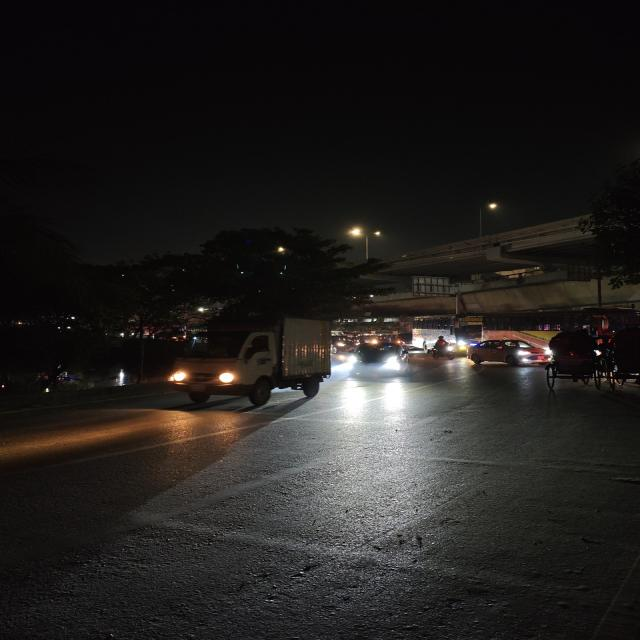bus: (415, 315, 492, 341)
car: (463, 336, 551, 370), (345, 342, 414, 380)
motorcycle: (427, 335, 454, 358)
rickshaw: (542, 329, 606, 389)
truck: (165, 314, 336, 412)
